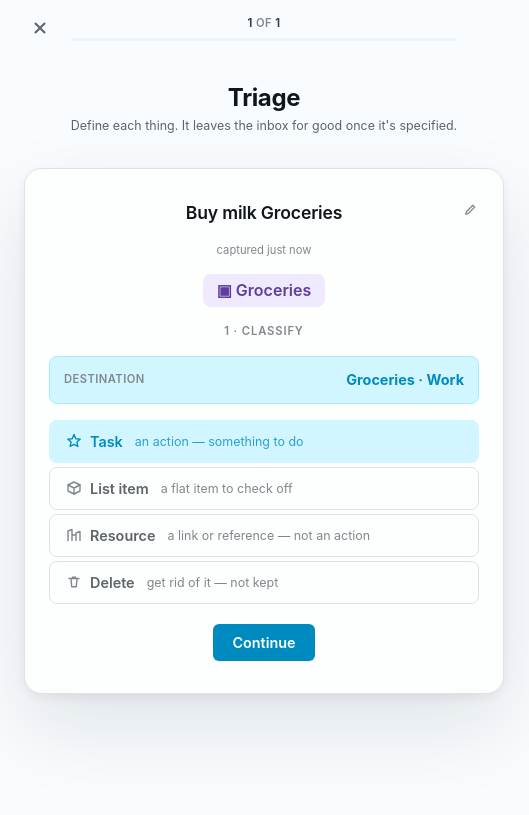
Scenario: TriagePage › lets a list-item choice override inferred project context
Click the button "List item a flat item to check off". click: (264, 488)
box: [49,466,479,509]
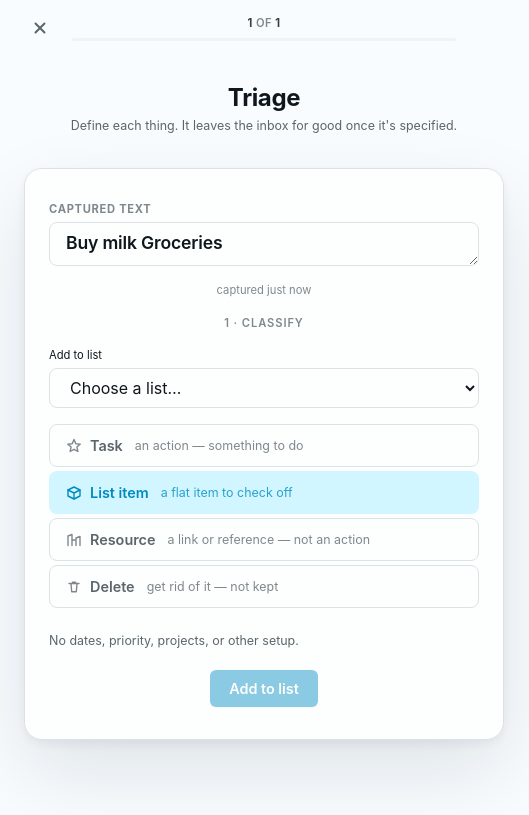
Select "Packing · Work" in the dropdown labelled "Add to list". click: (264, 388)
box: [49,368,479,408]
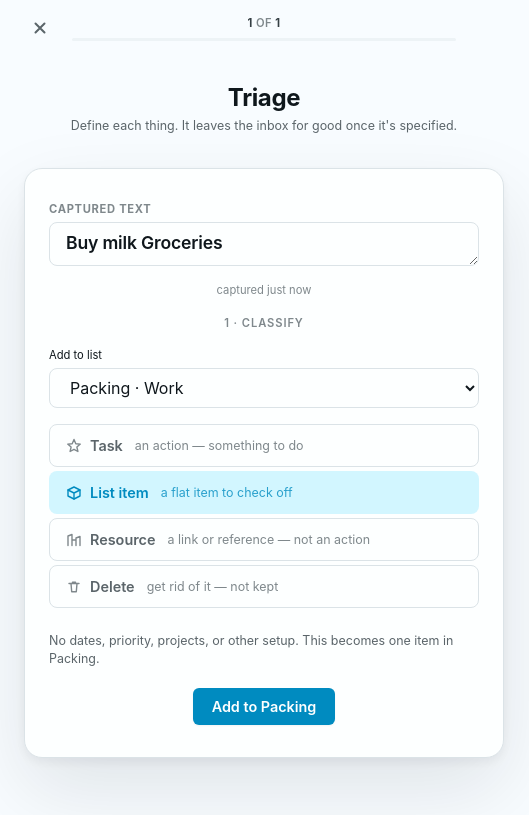
Expected: the button "Add to Packing" is shown, [193,688,335,725]
